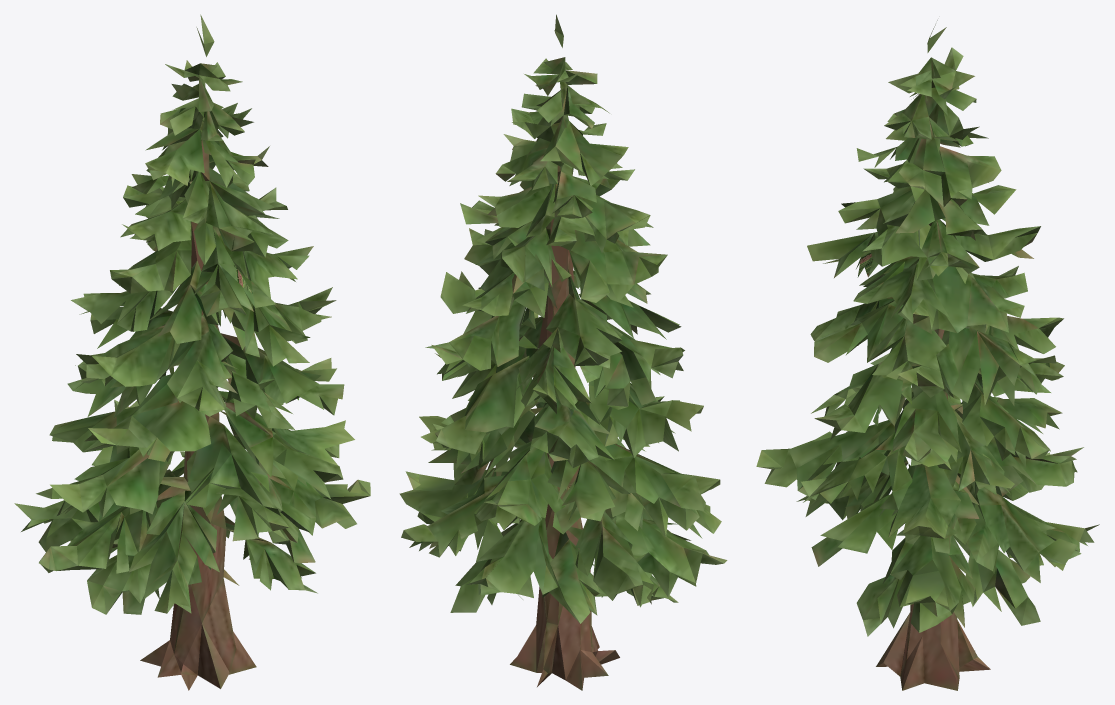
File: pine_tree.glb
3 renders of one model, left to right at view 1: azimuth 30°, elevation 25°; view 2: azimuth 150°, elevation 25°; view 3: azimuth 270°, elevation 25°, orthographic.
Bounding box in the file's own units: 0.9923 × 1.9 × 0.8994.
1 material, 1 textured.
